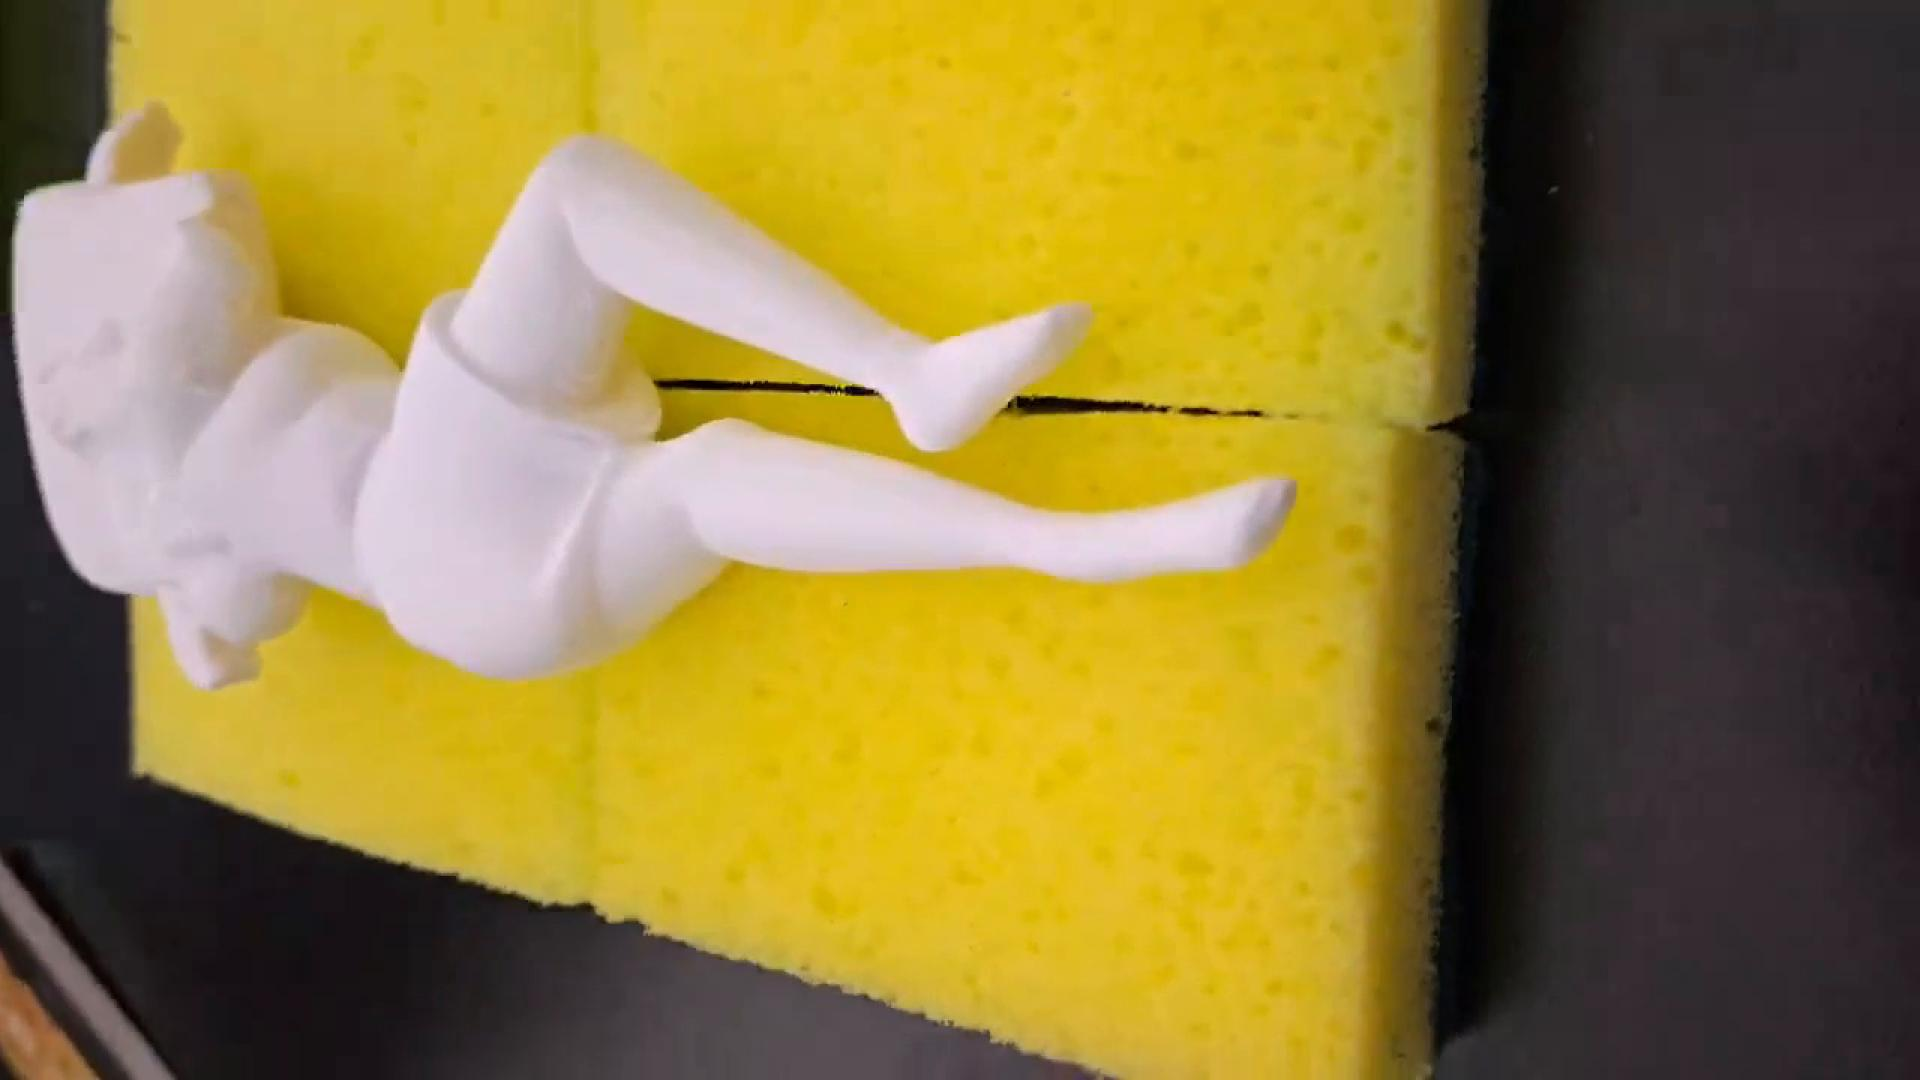Good-style: (1, 88, 1427, 794)
